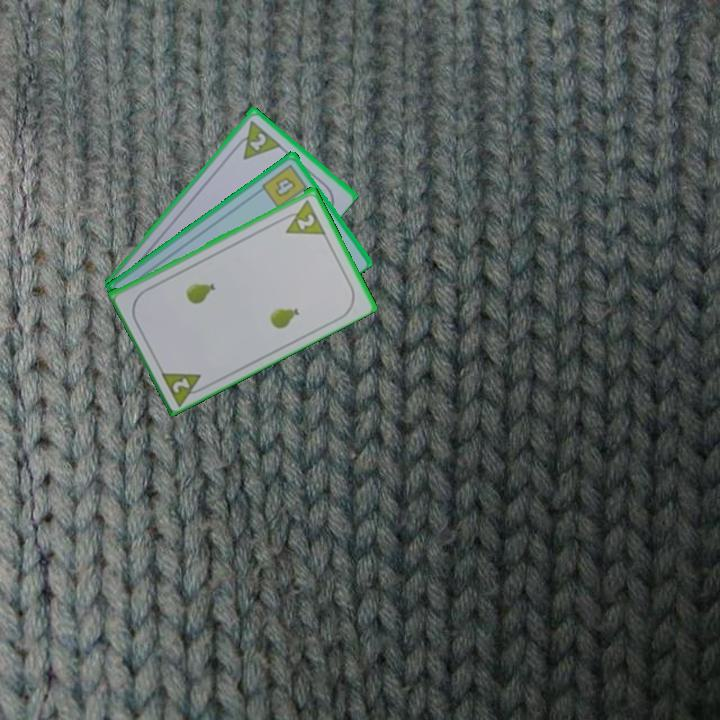2p: (157, 366, 211, 407), (276, 195, 328, 237), (246, 128, 269, 153)
4b: (258, 160, 312, 211)
